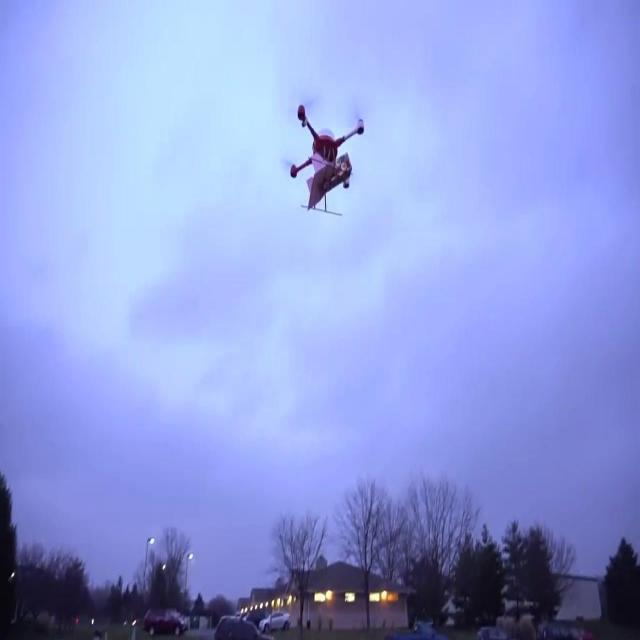UAV: (290, 105, 364, 216)
